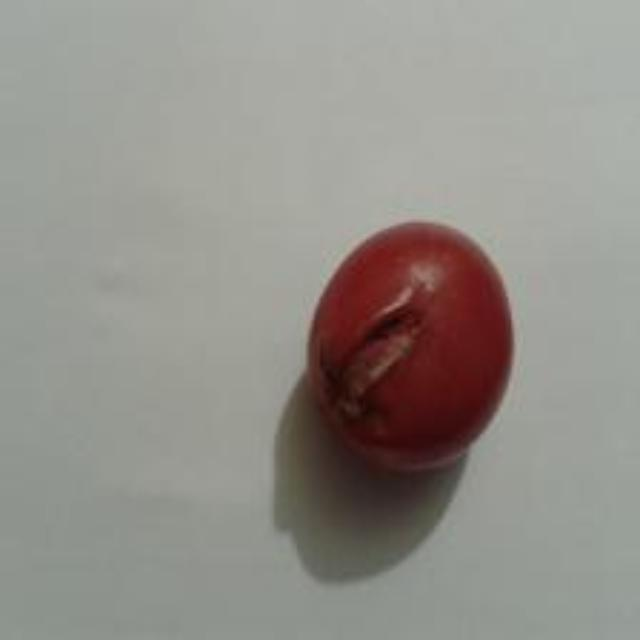defect: (302, 215, 519, 480)
